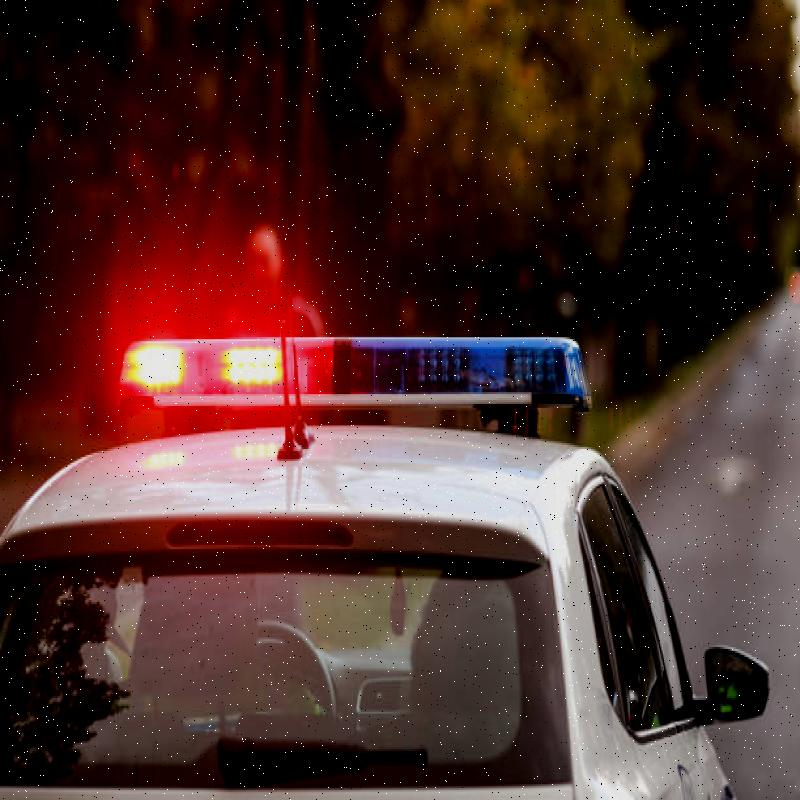AmbulanceSiren: (98, 296, 607, 433)
